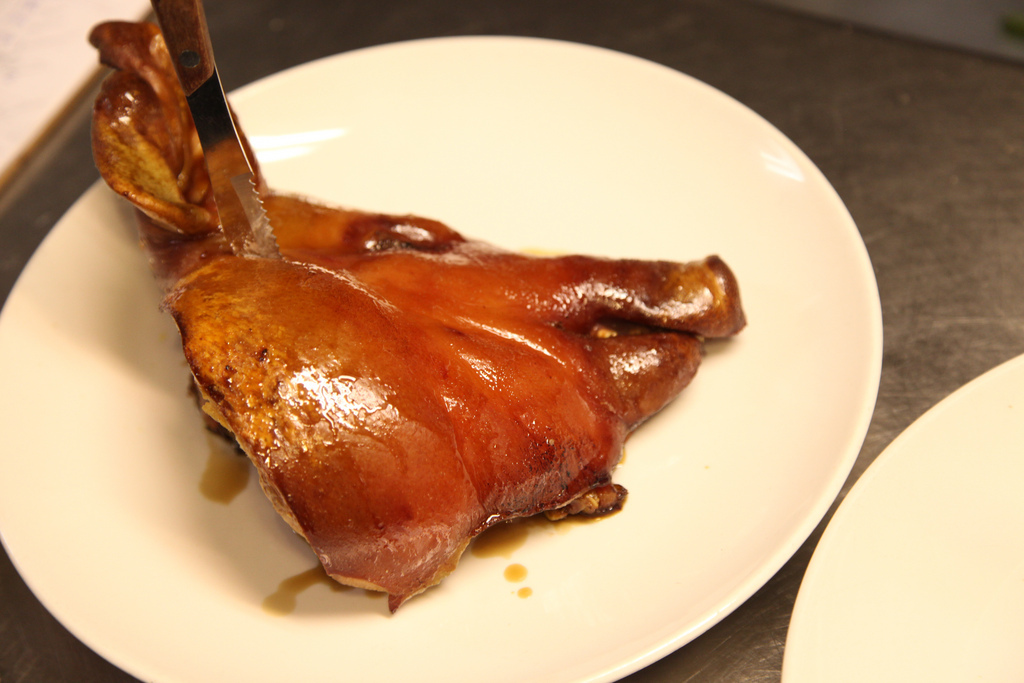plate: (0, 33, 883, 682)
